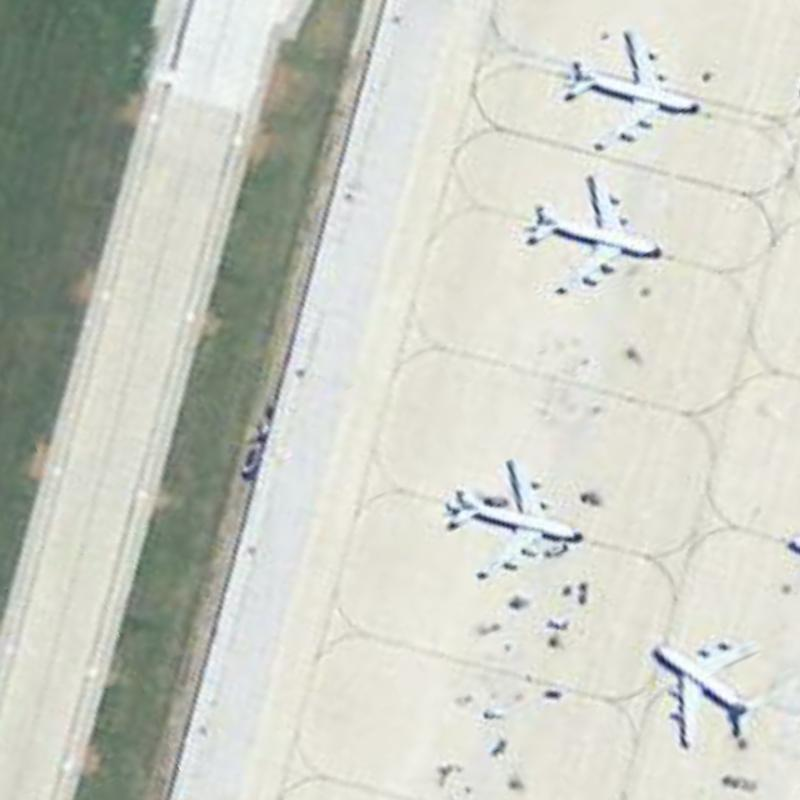A11: (510, 162, 666, 302), (436, 451, 590, 585), (556, 23, 709, 157), (641, 625, 780, 759)
